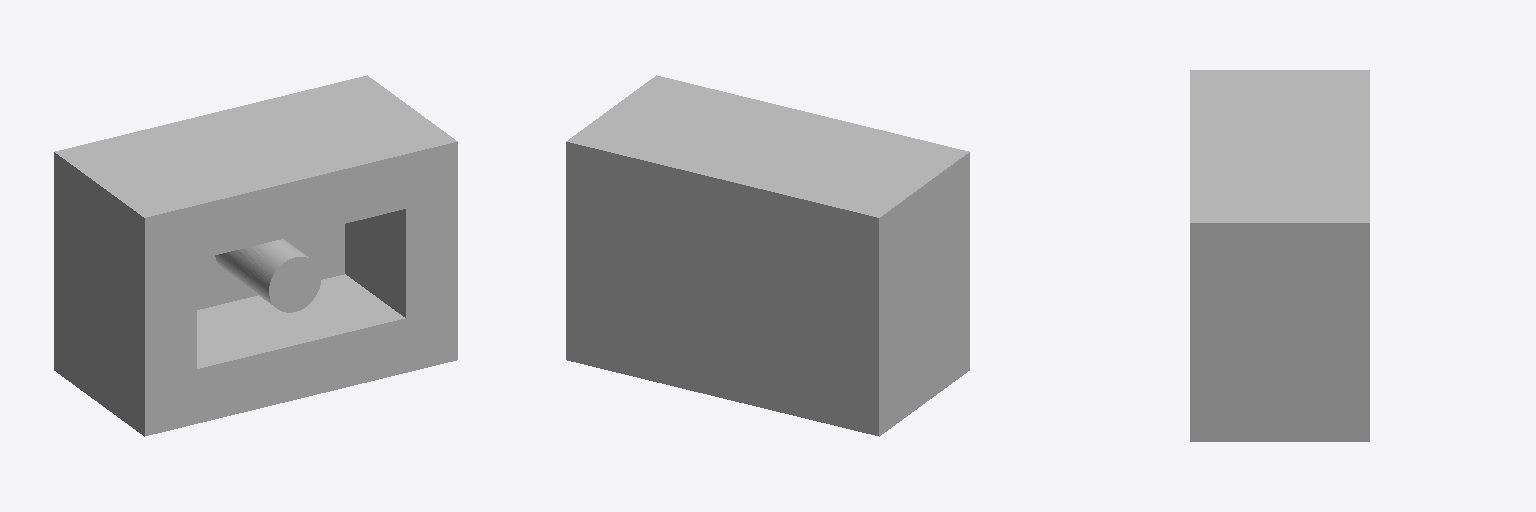
File: tank33.obj
The picture shows the model from 3 angles: view 1: azimuth 30°, elevation 25°; view 2: azimuth 150°, elevation 25°; view 3: azimuth 270°, elevation 25°; orthographic projection.
Bounding box in the file's own units: 3 × 2 × 1.5.